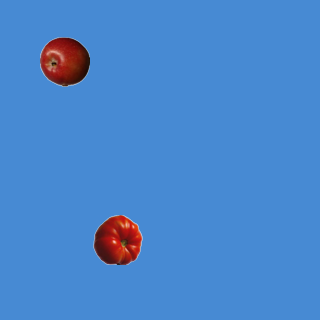Apple Braeburn: (39, 36, 89, 86)
Tomato 3: (92, 214, 142, 264)
